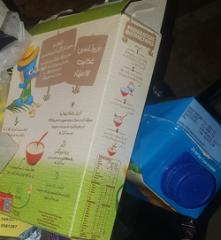paper: (1, 0, 170, 240), (126, 96, 220, 218)
